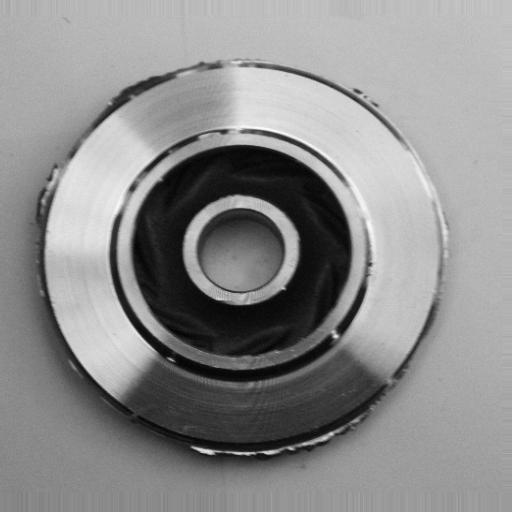casting_with_burr: (32, 56, 453, 467)
scratch: (344, 178, 386, 273), (105, 165, 148, 231), (182, 115, 255, 151), (306, 319, 360, 363)
